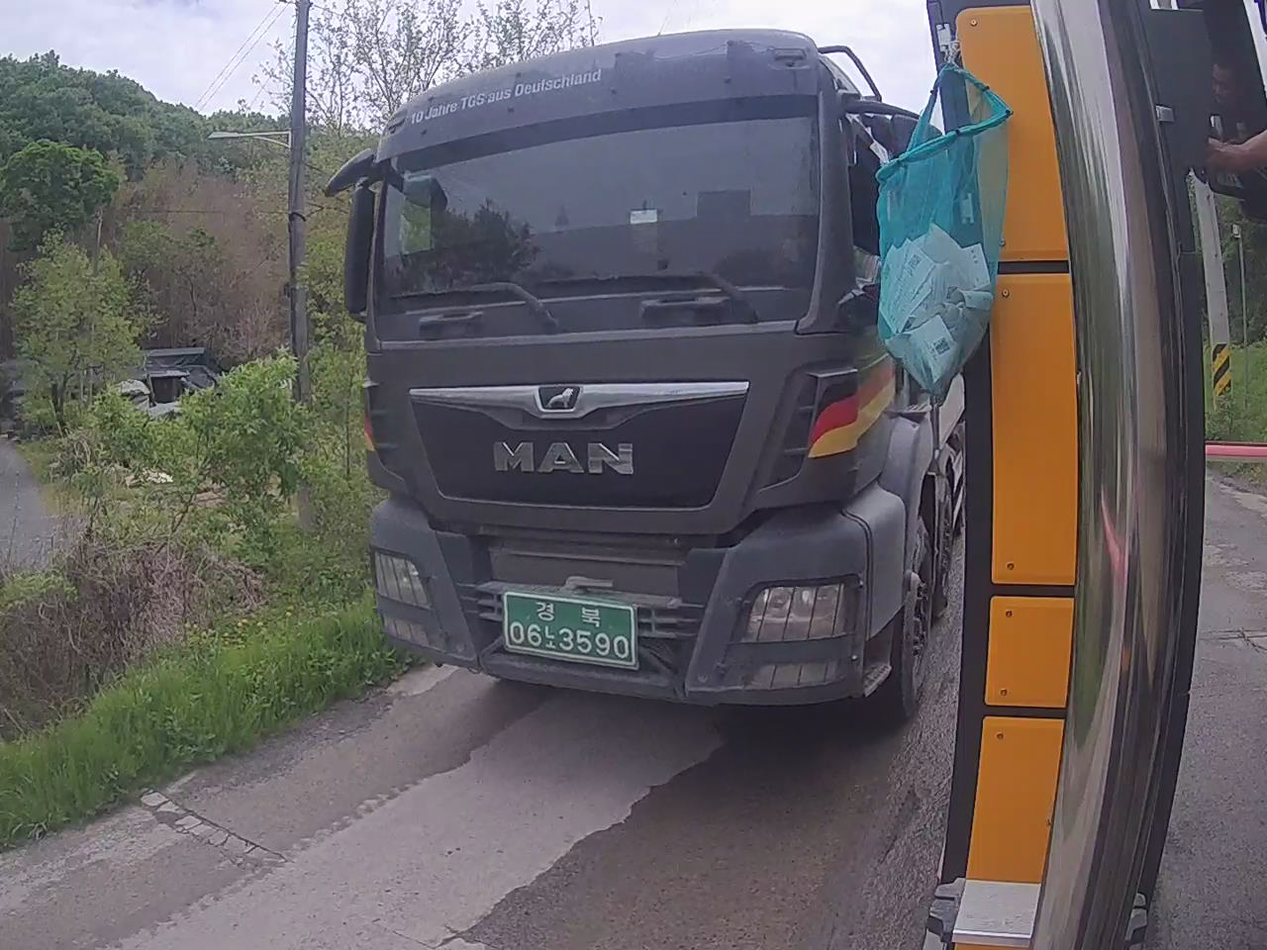license_plate: (505, 592, 636, 668)
truck: (327, 30, 963, 720)
